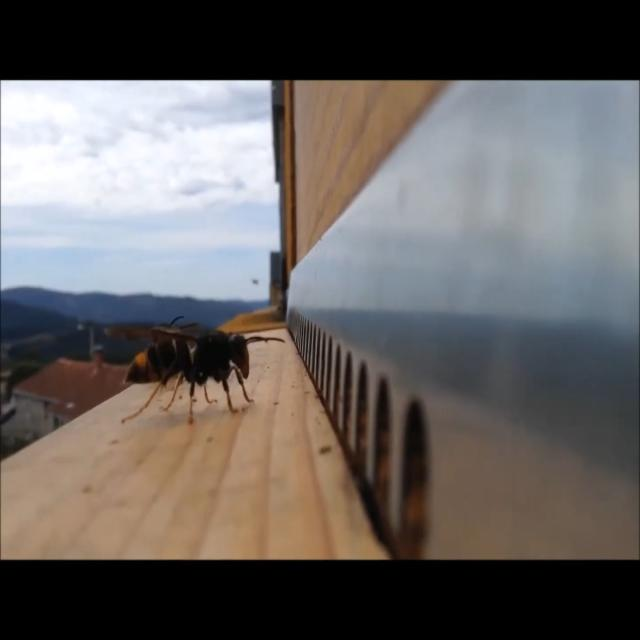Hornets: (99, 312, 288, 426)
